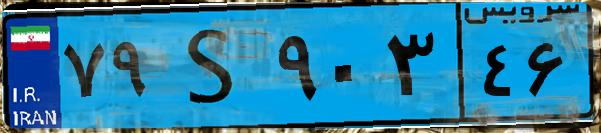0: (330, 28, 385, 110)
3: (385, 28, 445, 110)
4: (475, 38, 525, 113)
6: (525, 38, 570, 115)
7: (57, 26, 110, 100)
9: (270, 28, 330, 110), (110, 28, 158, 98)
S: (158, 12, 270, 120)
